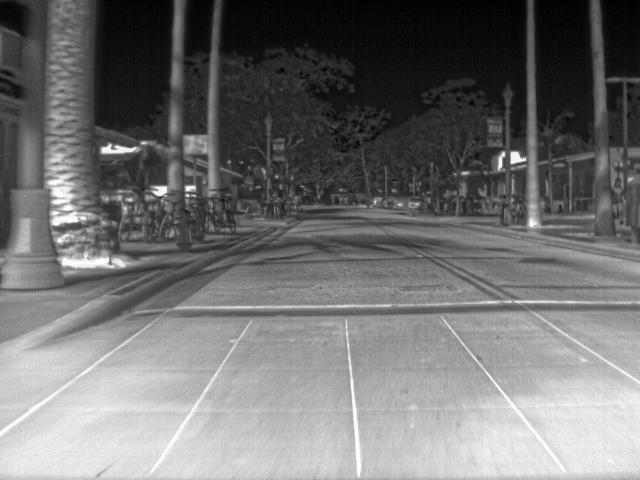car: (404, 194, 421, 211), (381, 195, 396, 210), (391, 197, 405, 211), (369, 195, 384, 208)
person: (612, 176, 624, 223), (271, 190, 285, 220)
